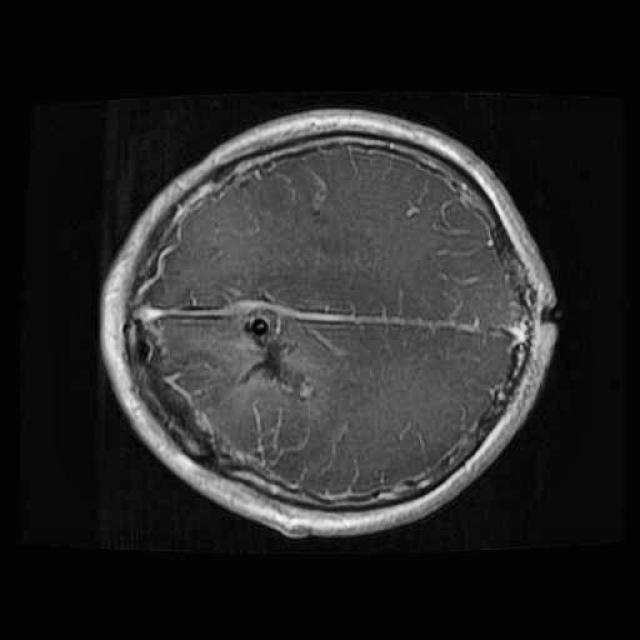Non-Tumor: (236, 310, 308, 399)
